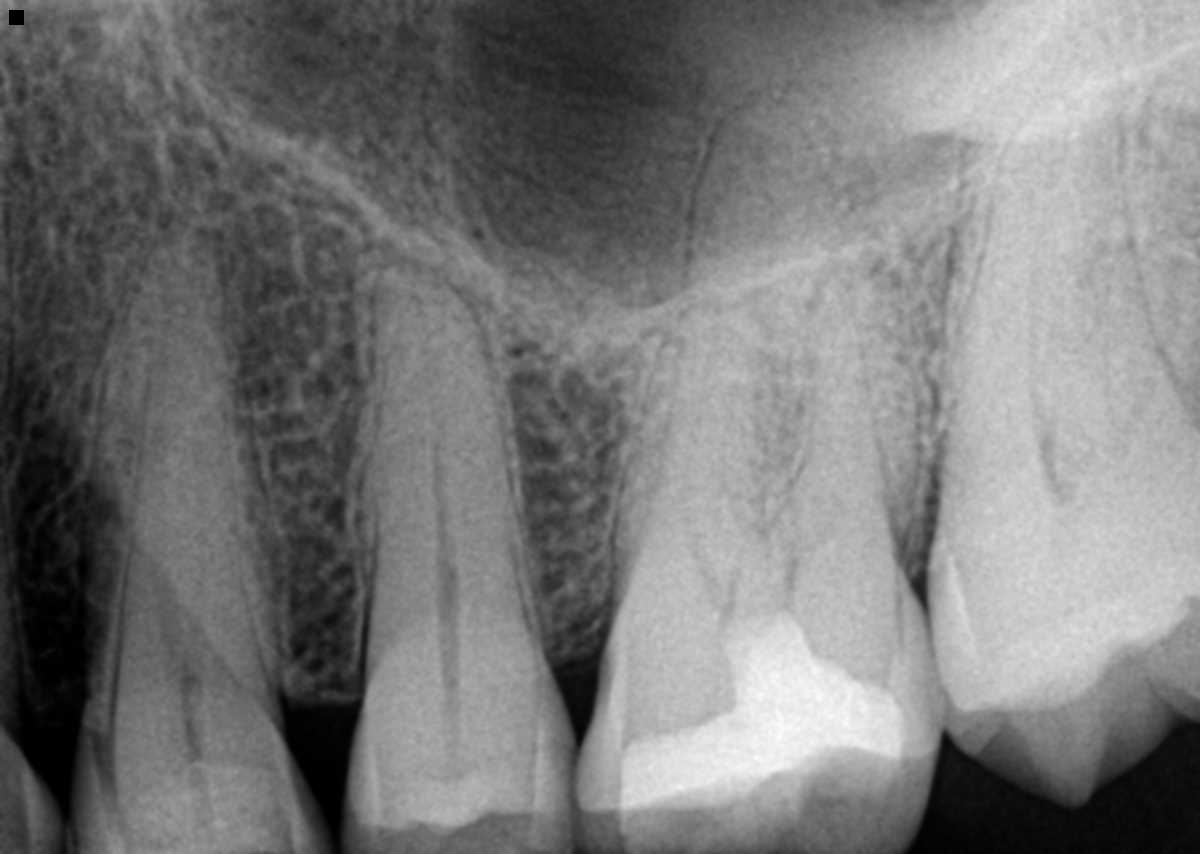Distal Root: (779, 257, 924, 578), (1102, 60, 1200, 374)
Main Canal: (415, 299, 459, 662), (152, 557, 216, 711)
Main Root: (363, 258, 530, 673), (114, 305, 277, 720)
Mesial Canal: (678, 461, 731, 604)
Mesial Root: (949, 97, 1110, 436), (612, 300, 769, 614)
Palatal Root: (938, 11, 1193, 502), (636, 98, 902, 563)
